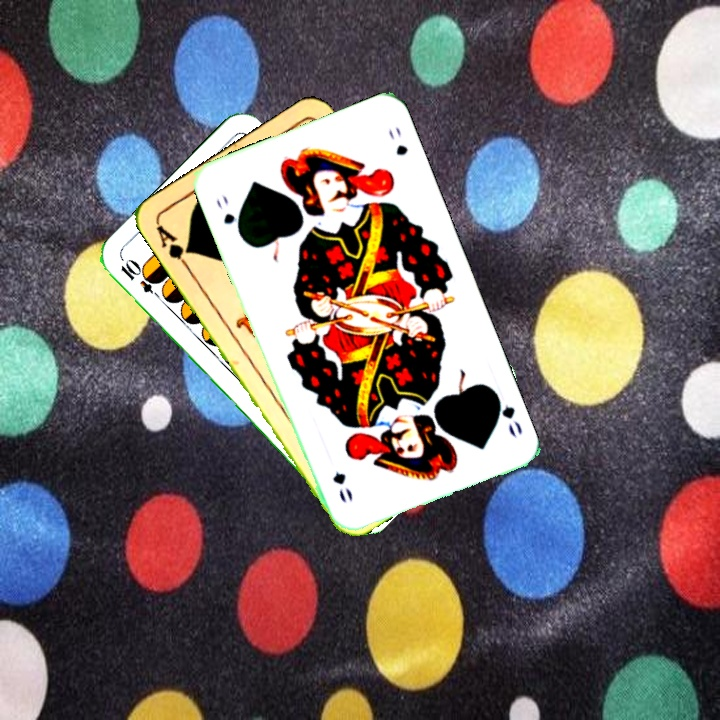E10: (116, 258, 165, 304)
GA: (151, 220, 196, 272)
GO: (489, 387, 525, 441), (212, 191, 244, 239)
